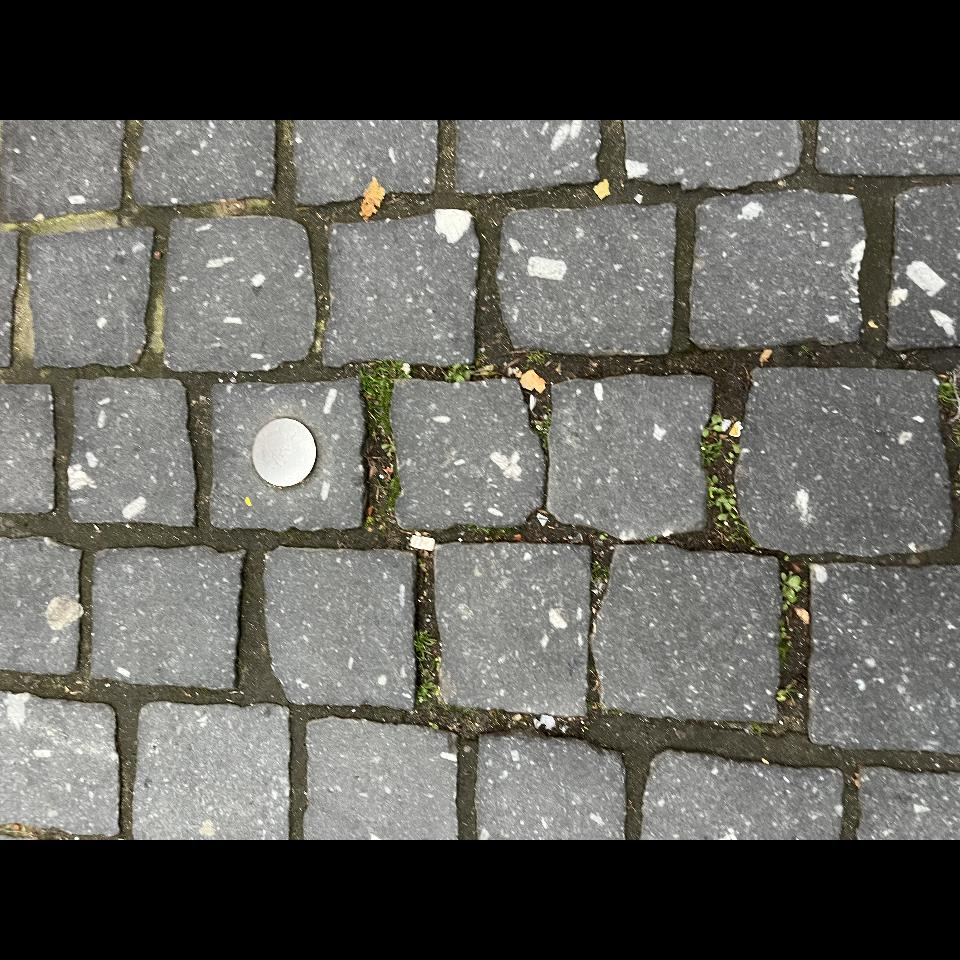weed: (362, 480, 479, 525), (291, 828, 364, 884), (135, 534, 239, 561), (458, 564, 475, 600), (409, 830, 426, 842)
